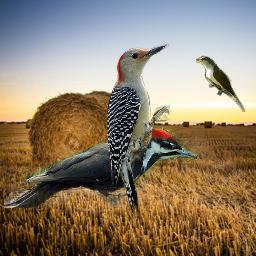Cuckoo: (196, 55, 246, 112)
Woodpecker: (4, 127, 197, 208), (107, 41, 172, 224)
